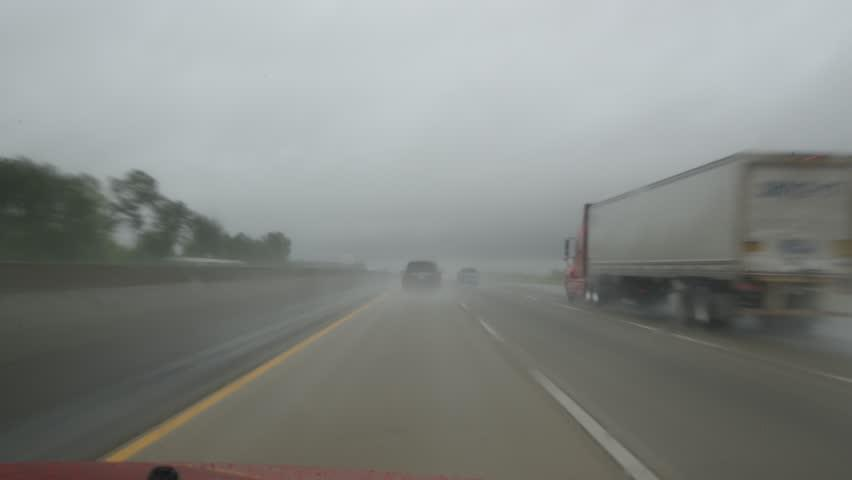bus: (557, 148, 852, 337)
car: (400, 260, 443, 296), (454, 267, 482, 286)
